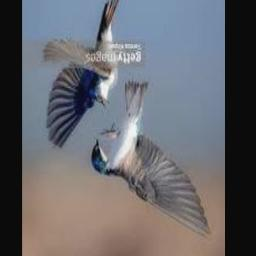Swallow: (91, 81, 212, 240), (44, 0, 120, 148)
